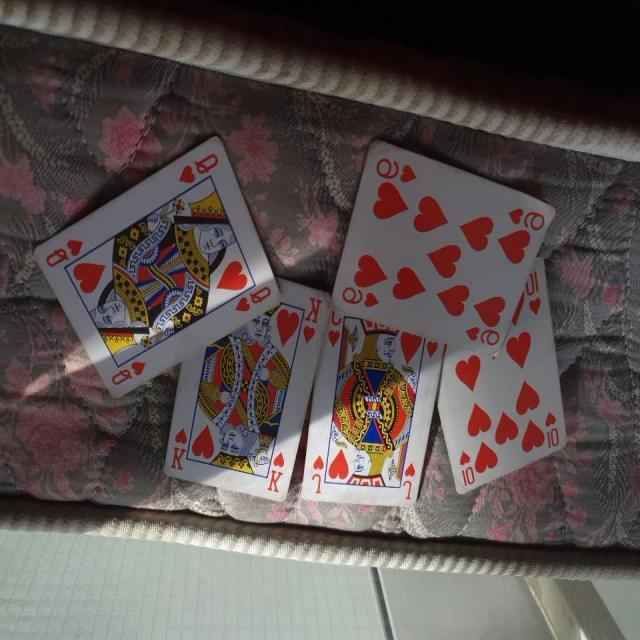10 of hearts: (436, 243, 569, 501)
9 of hearts: (331, 136, 558, 358)
jack of hearts: (296, 292, 446, 511)
king of hearts: (166, 271, 330, 508)
queen of hearts: (33, 126, 282, 401)
